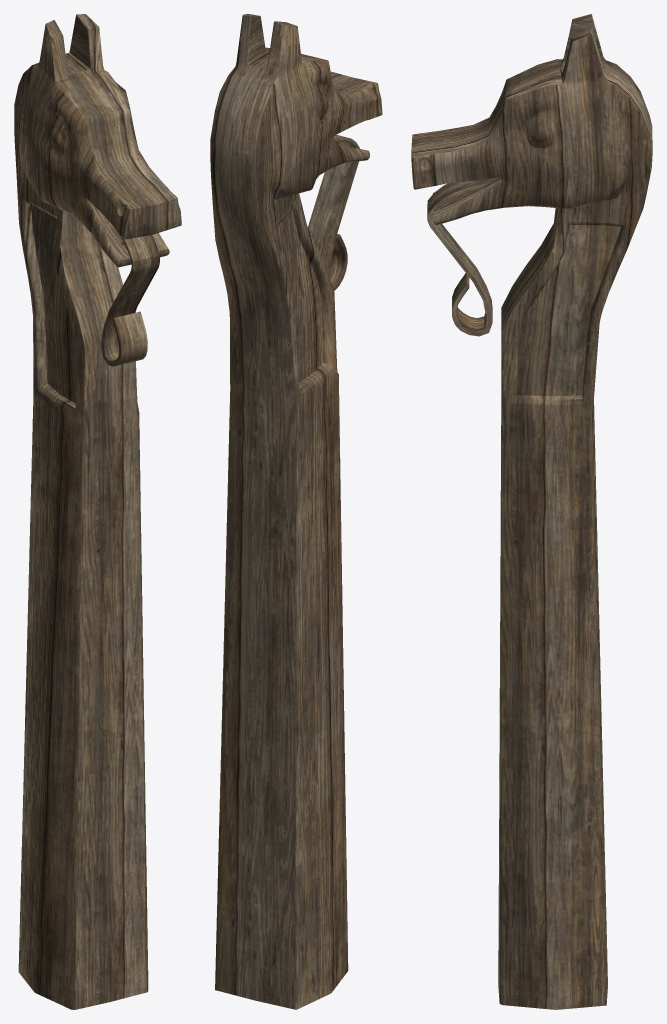
The model's file is val_totem_b.glb.
3 renders of one model, left to right at view 1: azimuth 30°, elevation 25°; view 2: azimuth 150°, elevation 25°; view 3: azimuth 270°, elevation 25°, orthographic. The views are drawn at different scales.
Parts seen in each view (by area): view 1: KB3D_VAL_Totem_B_Main; view 2: KB3D_VAL_Totem_B_Main; view 3: KB3D_VAL_Totem_B_Main.
Boxes of the visible parts, x1,y1,x2,y2 form: KB3D_VAL_Totem_B_Main: (14, 14, 181, 1009); KB3D_VAL_Totem_B_Main: (210, 14, 382, 1009); KB3D_VAL_Totem_B_Main: (411, 14, 652, 1009).
Size of the model in its own units: 0.4299 by 4.02 by 0.9128.
Materials: 1 (1 with a texture image).
